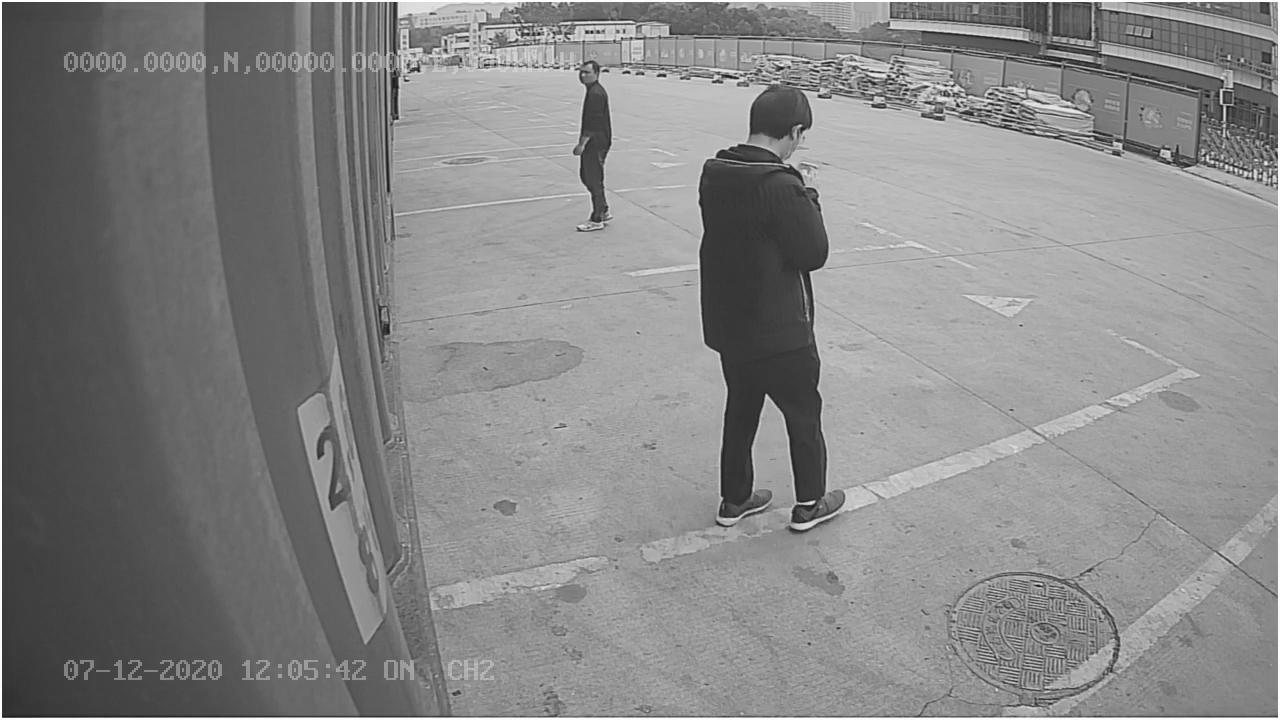person: (696, 79, 850, 535)
